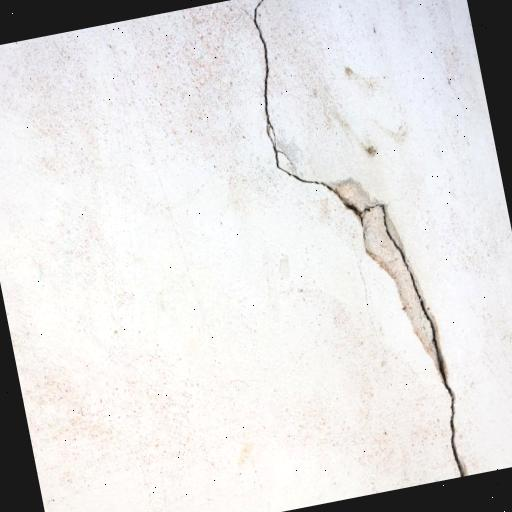spalling: (246, 0, 474, 471)
